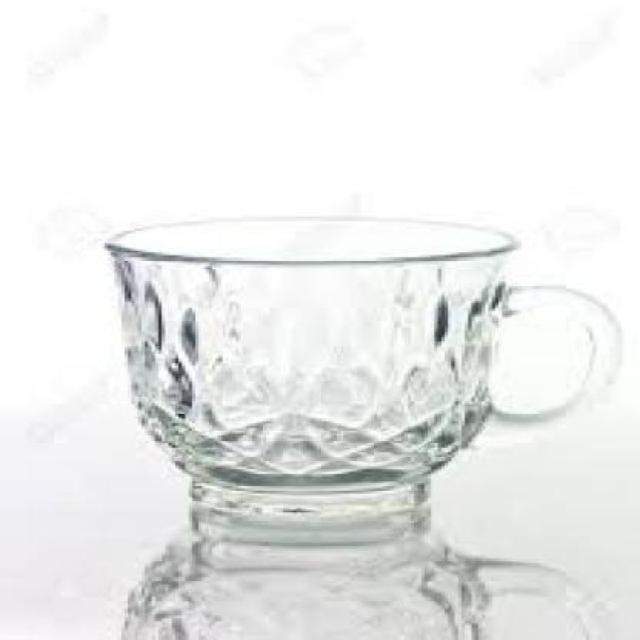kaca: (101, 217, 617, 512)
